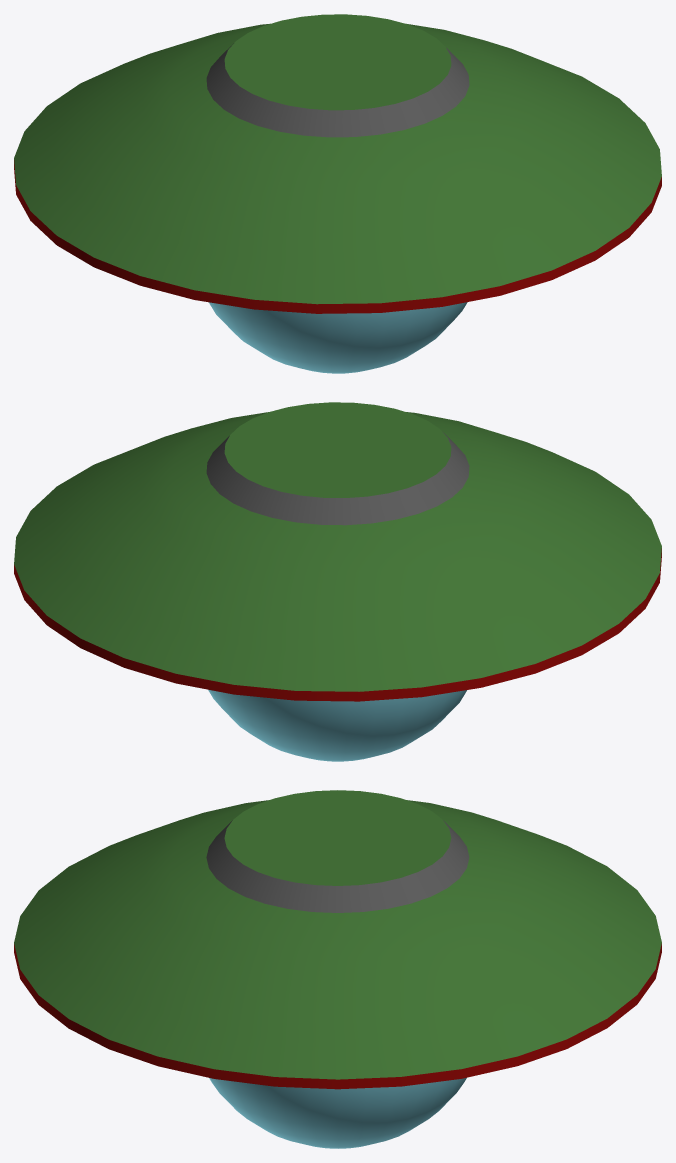
Rendered from nave 3.fbx.
The picture shows the model from 3 angles, top to bottom: view 1: azimuth 30°, elevation 25°; view 2: azimuth 150°, elevation 25°; view 3: azimuth 270°, elevation 25°; orthographic projection.
Visible parts, largest first — view 1: Sphere; view 2: Sphere; view 3: Sphere.
Part boxes in pixels (x1,y1,x2,y2): Sphere: (14, 14, 661, 373); Sphere: (14, 402, 661, 761); Sphere: (14, 790, 661, 1148).
Bounding box in the file's own units: 419 × 212 × 419.
